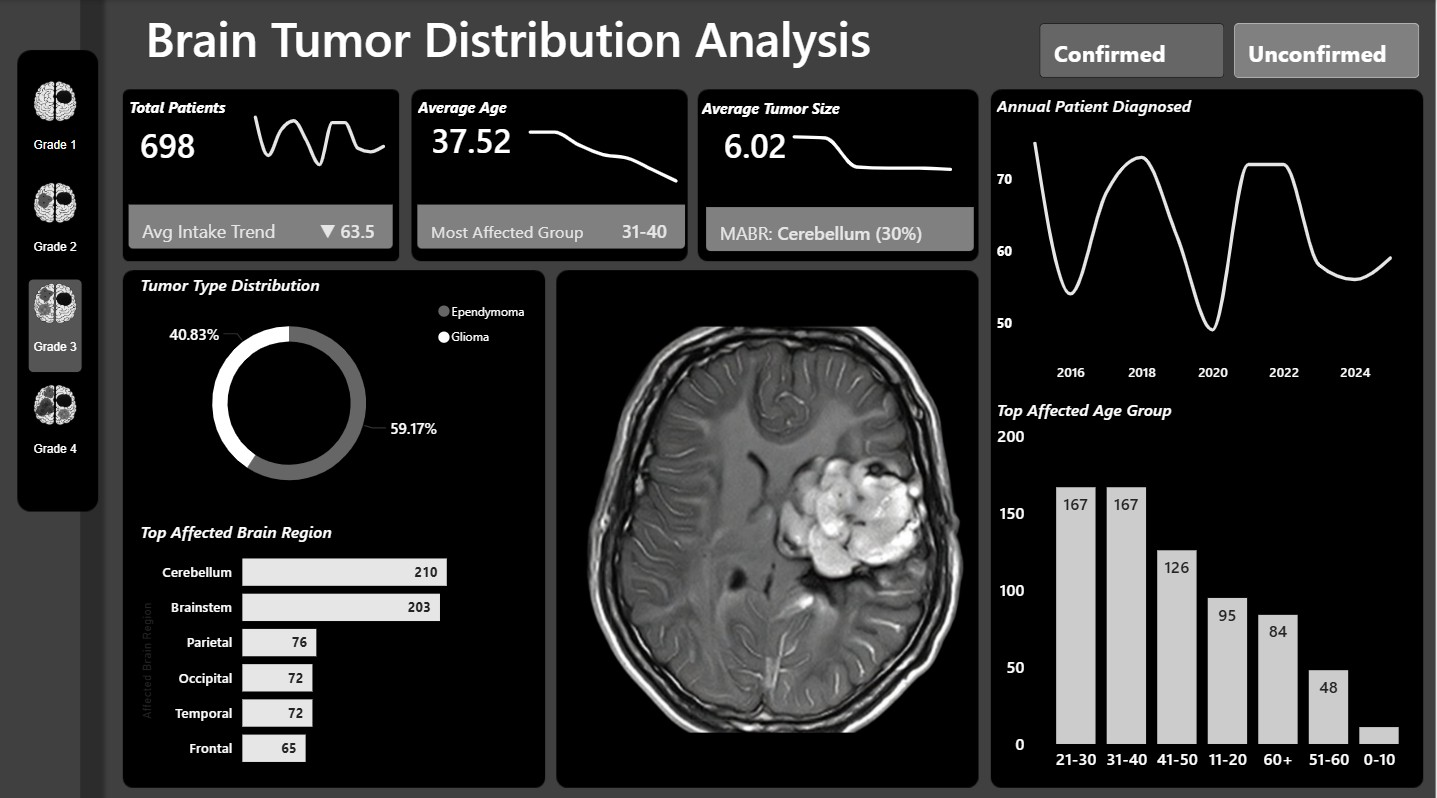

The dashboard page shown, as its layout file describes it:
{"tool":"powerbi","page":{"name":"BTDA","canvas":[1280,720],"ordinal":0},"visuals":[{"type":"cardVisual","fields":{"Data":["Count(Brain Tumor Data.Patient ID)"]},"box":[96.1,79.6,155.1,96.1],"z":0},{"type":"lineChart","fields":{"Category":["Brain Tumor Data.Date of Diagnosis.Variation.Date Hierarchy.Year"],"Y":["CountNonNull(Brain Tumor Data.Patient ID)"]},"box":[212.7,82.3,144.1,85.1],"z":1000},{"type":"cardVisual","fields":{"Data":["Count(Brain Tumor Data.Patient ID)"]},"box":[86,90.7,293,160.5],"z":2000},{"type":"textbox","box":[109.8,81,166,32.9],"z":3000},{"type":"cardVisual","fields":{"Data":["Avg(Brain Tumor Data.Age)"]},"box":[355.4,74.1,149.6,96.1],"z":4000},{"type":"textbox","box":[367.8,81,102.9,34.3],"z":5000},{"type":"cardVisual","fields":{"Data":["Count(Brain Tumor Data.Patient ID)"]},"box":[343.1,90.6,296.4,160.5],"z":6000},{"type":"lineChart","fields":{"Y":["CountNonNull(Brain Tumor Data.Patient ID)"],"Category":["Brain Tumor Data.Age Group"]},"box":[458.6,94.3,157.1,75.7],"z":7000},{"type":"cardVisual","fields":{"Data":["Count(Brain Tumor Data.Patient ID)"]},"box":[599.7,91.9,296.4,160.5],"z":8000},{"type":"cardVisual","fields":{"Data":["Avg(Brain Tumor Data.Tumor Size (cm))"]},"box":[615.7,85.7,121.4,84.3],"z":9000},{"type":"textbox","box":[620,82.9,142.9,32.9],"z":10000},{"type":"lineChart","fields":{"Category":["Brain Tumor Data.Affected Brain Region"],"Y":["Sum(Brain Tumor Data.Tumor Size (cm))"]},"box":[691.4,100,171.4,70],"z":11000},{"type":"advancedSlicerVisual","fields":{"Values":["Brain Tumor Data.Histology Confirmation"]},"box":[920.8,15.1,348.5,59],"z":12000},{"type":"ChicletSlicer1448559807354","fields":{"Category":["Tumor Images.Tumor Grade"],"Image":["Tumor Images.Icon URL"]},"box":[16.7,60.1,70.1,399.6],"z":13000},{"type":"imageDB603108E3FF4EBFB8047F5653368E8C","fields":{"imageUrl":["Tumor Images.Image URL"]},"box":[500.9,245.6,371.9,451.5],"z":14000},{"type":"donutChart","fields":{"Category":["Brain Tumor Data.Tumor Type"],"Y":["CountNonNull(Brain Tumor Data.Patient ID)"]},"box":[120.8,260.7,360.9,197.6],"z":15000},{"type":"textbox","box":[120.8,238.8,199,32.9],"z":16000},{"type":"clusteredBarChart","fields":{"Category":["Brain Tumor Data.Affected Brain Region"],"Y":["CountNonNull(Brain Tumor Data.Patient ID)"]},"box":[120.8,472,360.9,225],"z":17000},{"type":"textbox","box":[120.8,458.3,203.1,39.8],"z":18000},{"type":"lineChart","fields":{"Category":["Brain Tumor Data.Date of Diagnosis.Variation.Date Hierarchy.Year"],"Y":["CountNonNull(Brain Tumor Data.Patient ID)"]},"box":[882.3,113.9,374.6,236],"z":19000},{"type":"textbox","box":[882.3,79.6,200.3,38.4],"z":20000},{"type":"clusteredColumnChart","fields":{"Y":["CountNonNull(Brain Tumor Data.Patient ID)"],"Category":["Brain Tumor Data.Age Group"]},"box":[882.3,373.2,387,323.8],"z":21000},{"type":"textbox","box":[882.3,349.9,200.3,34.3],"z":22000},{"type":"textbox","box":[124.9,0,784.9,75.5],"z":23000}]}

Visuals, with their boxes in screenshot pixels (x1, y1, x2, y2), scaled from the page's 1280x720 canvas onto the 1437x798 screenshot:
cardVisual - Count(Brain Tumor Data.Patient ID): {"left": 108, "top": 88, "right": 282, "bottom": 195}
lineChart - Brain Tumor Data.Date of Diagnosis.Variation.Date Hierarchy.Year x CountNonNull(Brain Tumor Data.Patient ID): {"left": 239, "top": 91, "right": 401, "bottom": 186}
cardVisual - Count(Brain Tumor Data.Patient ID): {"left": 97, "top": 101, "right": 425, "bottom": 278}
textbox: {"left": 123, "top": 90, "right": 310, "bottom": 126}
cardVisual - Avg(Brain Tumor Data.Age): {"left": 399, "top": 82, "right": 567, "bottom": 189}
textbox: {"left": 413, "top": 90, "right": 528, "bottom": 128}
cardVisual - Count(Brain Tumor Data.Patient ID): {"left": 385, "top": 100, "right": 718, "bottom": 278}
lineChart - CountNonNull(Brain Tumor Data.Patient ID) x Brain Tumor Data.Age Group: {"left": 515, "top": 105, "right": 691, "bottom": 188}
cardVisual - Count(Brain Tumor Data.Patient ID): {"left": 673, "top": 102, "right": 1006, "bottom": 280}
cardVisual - Avg(Brain Tumor Data.Tumor Size (cm)): {"left": 691, "top": 95, "right": 828, "bottom": 188}
textbox: {"left": 696, "top": 92, "right": 856, "bottom": 128}
lineChart - Brain Tumor Data.Affected Brain Region x Sum(Brain Tumor Data.Tumor Size (cm)): {"left": 776, "top": 111, "right": 969, "bottom": 188}
advancedSlicerVisual - Brain Tumor Data.Histology Confirmation: {"left": 1034, "top": 17, "right": 1425, "bottom": 82}
ChicletSlicer1448559807354 - Tumor Images.Tumor Grade x Tumor Images.Icon URL: {"left": 19, "top": 67, "right": 97, "bottom": 510}
imageDB603108E3FF4EBFB8047F5653368E8C - Tumor Images.Image URL: {"left": 562, "top": 272, "right": 980, "bottom": 773}
donutChart - Brain Tumor Data.Tumor Type x CountNonNull(Brain Tumor Data.Patient ID): {"left": 136, "top": 289, "right": 541, "bottom": 508}
textbox: {"left": 136, "top": 265, "right": 359, "bottom": 301}
clusteredBarChart - Brain Tumor Data.Affected Brain Region x CountNonNull(Brain Tumor Data.Patient ID): {"left": 136, "top": 523, "right": 541, "bottom": 773}
textbox: {"left": 136, "top": 508, "right": 364, "bottom": 552}
lineChart - Brain Tumor Data.Date of Diagnosis.Variation.Date Hierarchy.Year x CountNonNull(Brain Tumor Data.Patient ID): {"left": 991, "top": 126, "right": 1411, "bottom": 388}
textbox: {"left": 991, "top": 88, "right": 1215, "bottom": 131}
clusteredColumnChart - CountNonNull(Brain Tumor Data.Patient ID) x Brain Tumor Data.Age Group: {"left": 991, "top": 414, "right": 1425, "bottom": 773}
textbox: {"left": 991, "top": 388, "right": 1215, "bottom": 426}
textbox: {"left": 140, "top": 0, "right": 1021, "bottom": 84}
